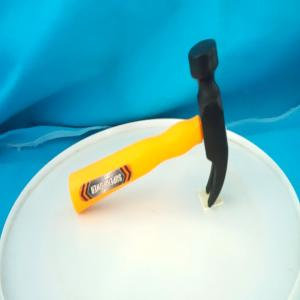martelo: (68, 37, 229, 215)
